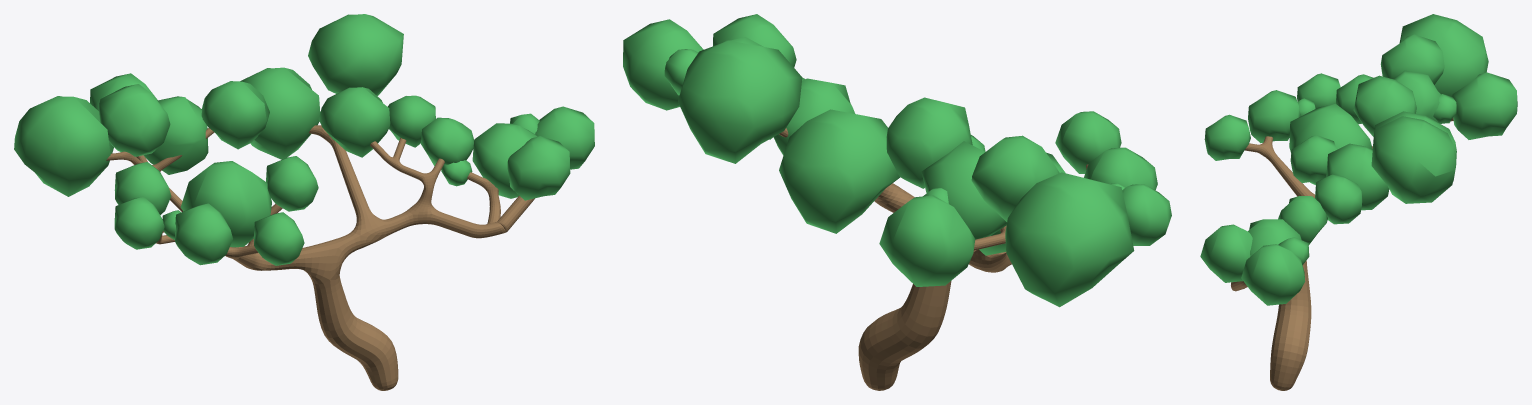
File: tree.fbx
The picture shows the model from 3 angles, left to right: view 1: azimuth 30°, elevation 25°; view 2: azimuth 150°, elevation 25°; view 3: azimuth 270°, elevation 25°; orthographic projection. The views are drawn at different scales.
Parts seen in each view (by area): view 1: Icosphere; view 2: Icosphere; view 3: Icosphere.
Boxes of the visible parts, x1,y1,x2,y2 form: Icosphere: (14, 14, 594, 390); Icosphere: (623, 14, 1171, 390); Icosphere: (1200, 14, 1517, 390).
Bounding box in the file's own units: 1410 × 874 × 871.
